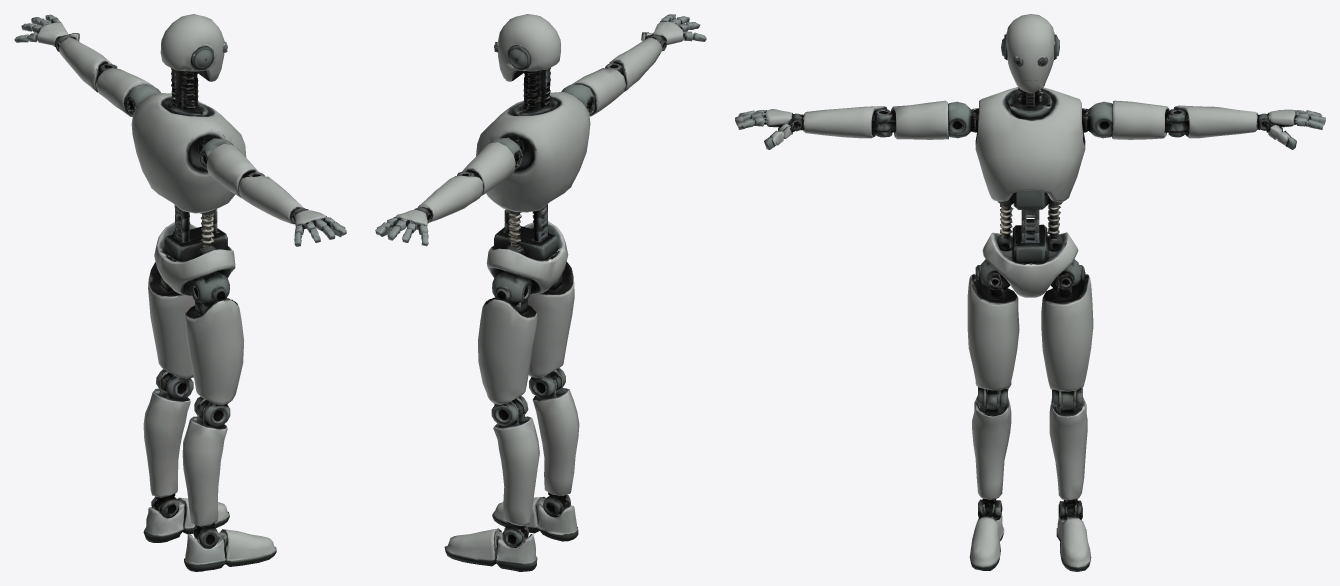
Rendered from humanoid+robot+3d+model.glb.
3 renders of one model, left to right at view 1: azimuth 30°, elevation 25°; view 2: azimuth 150°, elevation 25°; view 3: azimuth 270°, elevation 25°, orthographic.
Parts seen in each view (by area): view 1: tripo_node_61bef9c5-a73e-4781-b9ec-872ad9b264b5; view 2: tripo_node_61bef9c5-a73e-4781-b9ec-872ad9b264b5; view 3: tripo_node_61bef9c5-a73e-4781-b9ec-872ad9b264b5.
Part boxes in pixels (x1,y1,x2,y2): tripo_node_61bef9c5-a73e-4781-b9ec-872ad9b264b5: (14, 14, 346, 571); tripo_node_61bef9c5-a73e-4781-b9ec-872ad9b264b5: (375, 14, 706, 571); tripo_node_61bef9c5-a73e-4781-b9ec-872ad9b264b5: (735, 14, 1325, 571).
Size of the model in its own units: 0.2051 by 0.9863 by 0.998.
1 material, 1 textured.
